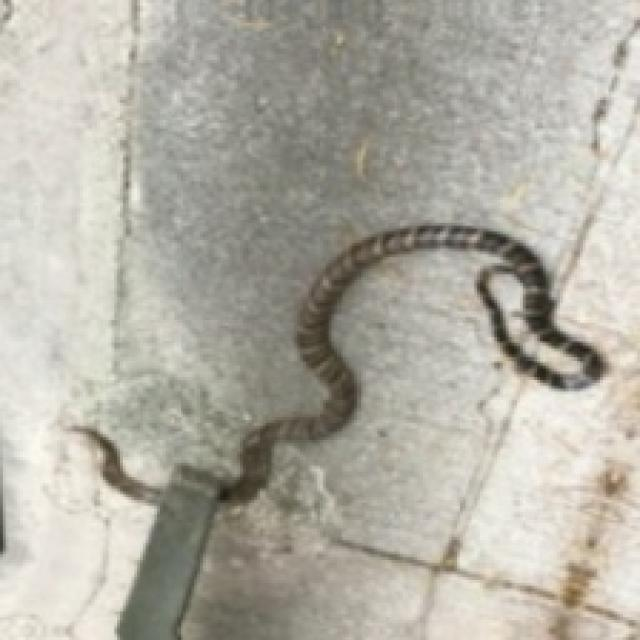king cobra: (80, 223, 603, 637), (220, 223, 603, 500)
